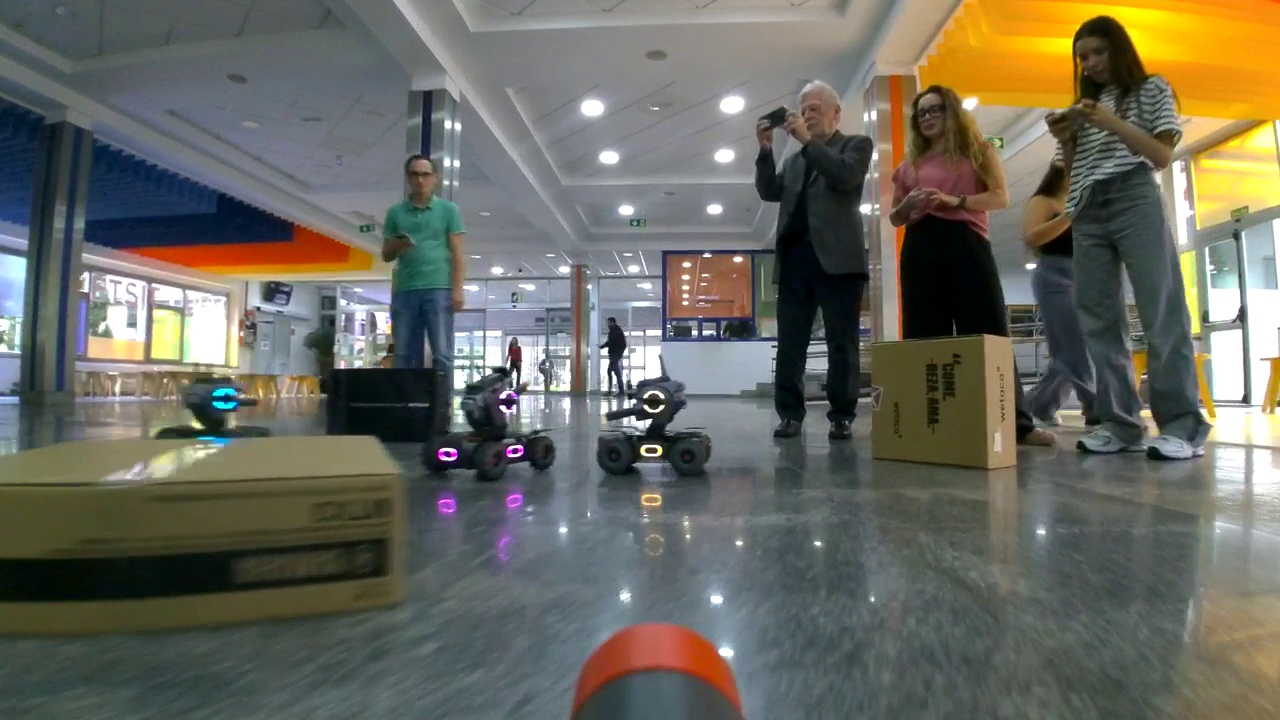robot: (420, 367, 556, 481), (595, 370, 712, 477)
